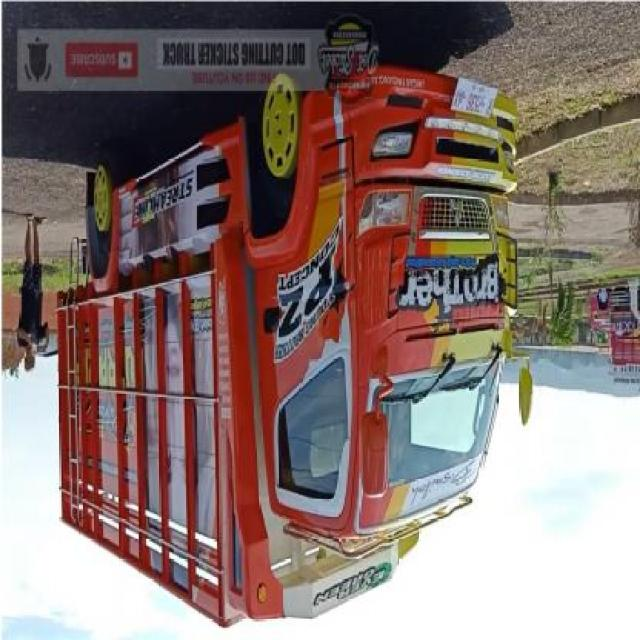truck: (59, 66, 536, 632)
